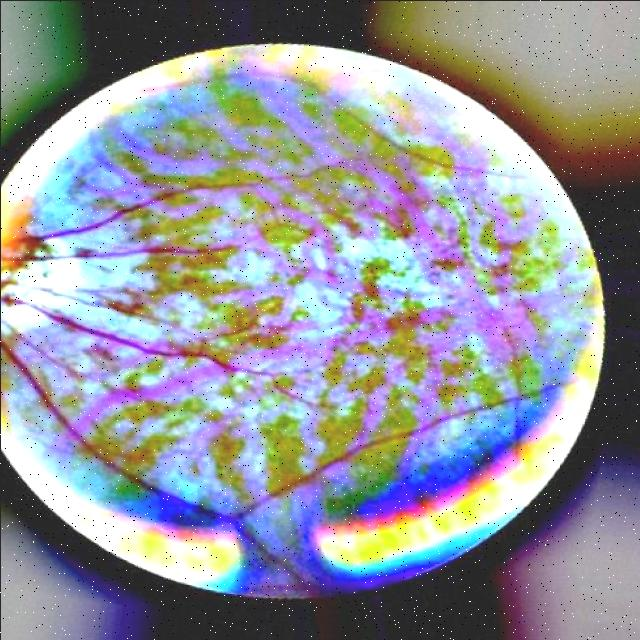Nerves: (0, 321, 241, 523), (0, 159, 336, 249), (0, 236, 259, 267)
Optic Disk: (0, 172, 78, 328)
